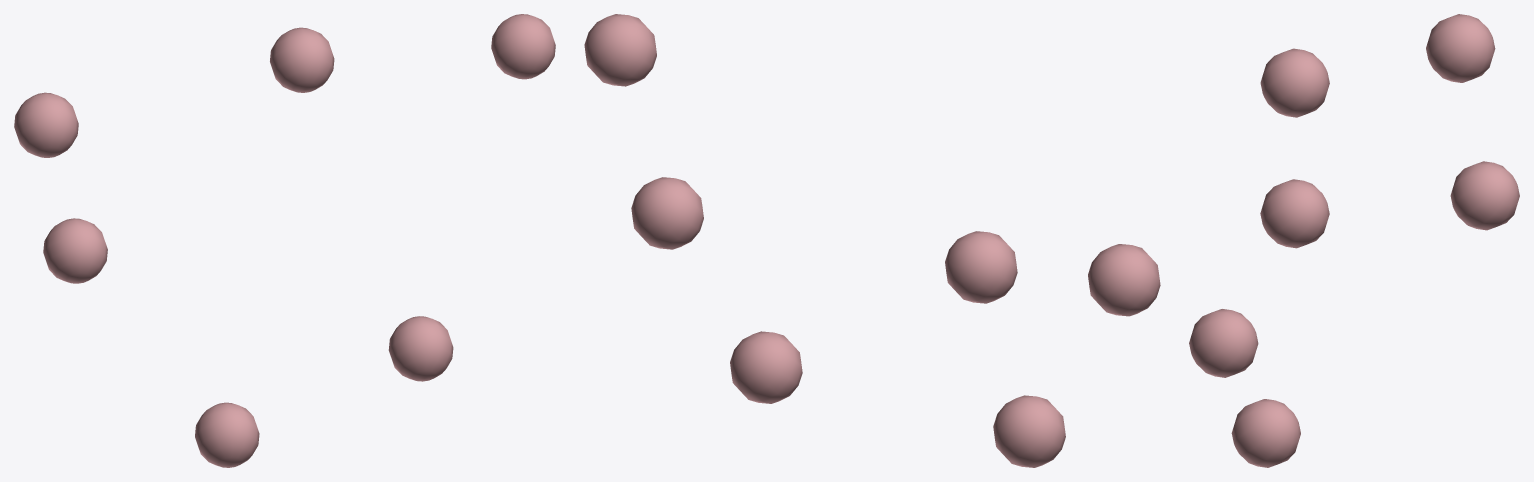
The picture shows the model from 3 angles, left to right: view 1: azimuth 30°, elevation 25°; view 2: azimuth 150°, elevation 25°; view 3: azimuth 270°, elevation 25°; orthographic projection. The views are drawn at different scales.
Visible parts, largest first — view 1: ZA_8731d0bc11765d7c; view 2: ZA_8731d0bc11765d7c; view 3: ZA_8731d0bc11765d7c.
Boxes of the visible parts, x1,y1,x2,y2 form: ZA_8731d0bc11765d7c: (14, 14, 555, 467); ZA_8731d0bc11765d7c: (584, 14, 1160, 467); ZA_8731d0bc11765d7c: (1189, 14, 1519, 467).
Bounding box in the file's own units: 0.023 × 0.015 × 0.0124.
